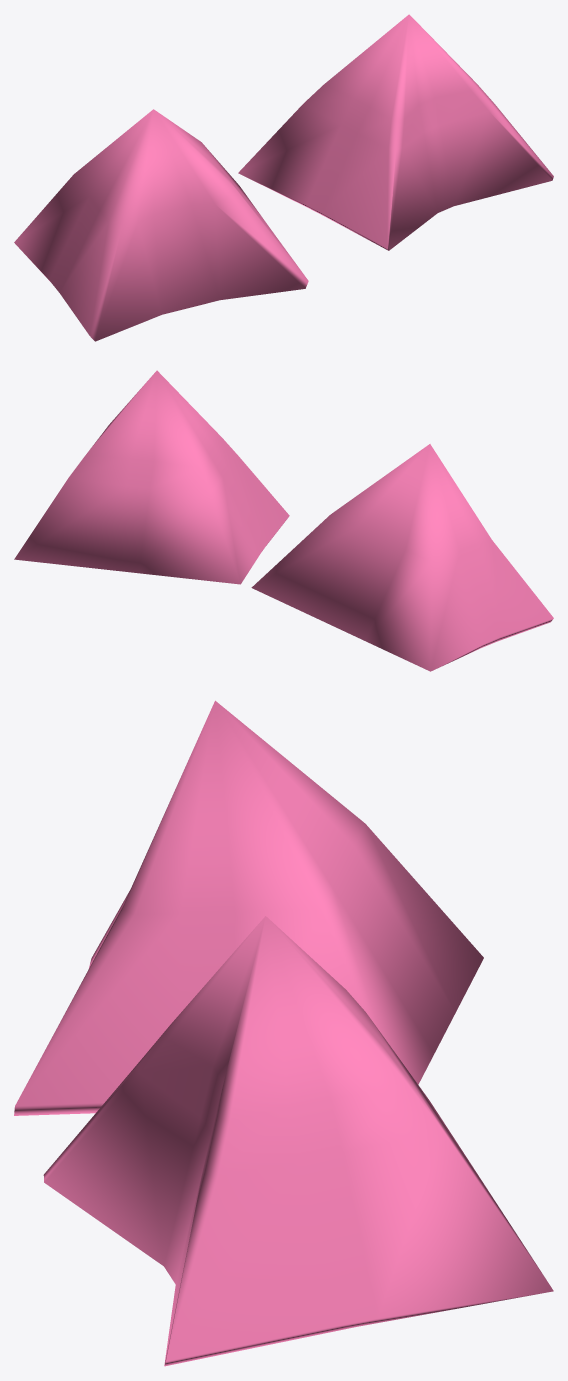
Rendered from Tent_low.fbx.
The picture shows the model from 3 angles, top to bottom: view 1: azimuth 30°, elevation 25°; view 2: azimuth 150°, elevation 25°; view 3: azimuth 270°, elevation 25°; orthographic projection. The views are drawn at different scales.
Parts seen in each view (by area): view 1: Tent_low; view 2: Tent_low; view 3: Tent_low.
Part boxes in pixels (left/top/right/bottom): Tent_low: left=14, top=14, right=553, bottom=341; Tent_low: left=14, top=370, right=553, bottom=671; Tent_low: left=14, top=700, right=553, bottom=1366.
Bounding box in the file's own units: 2.18 × 0.8884 × 1.09.
